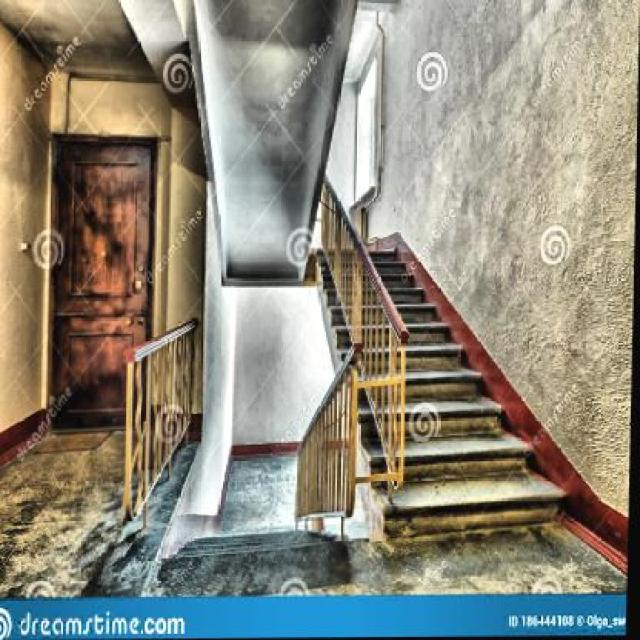stair: (358, 182, 571, 526)
